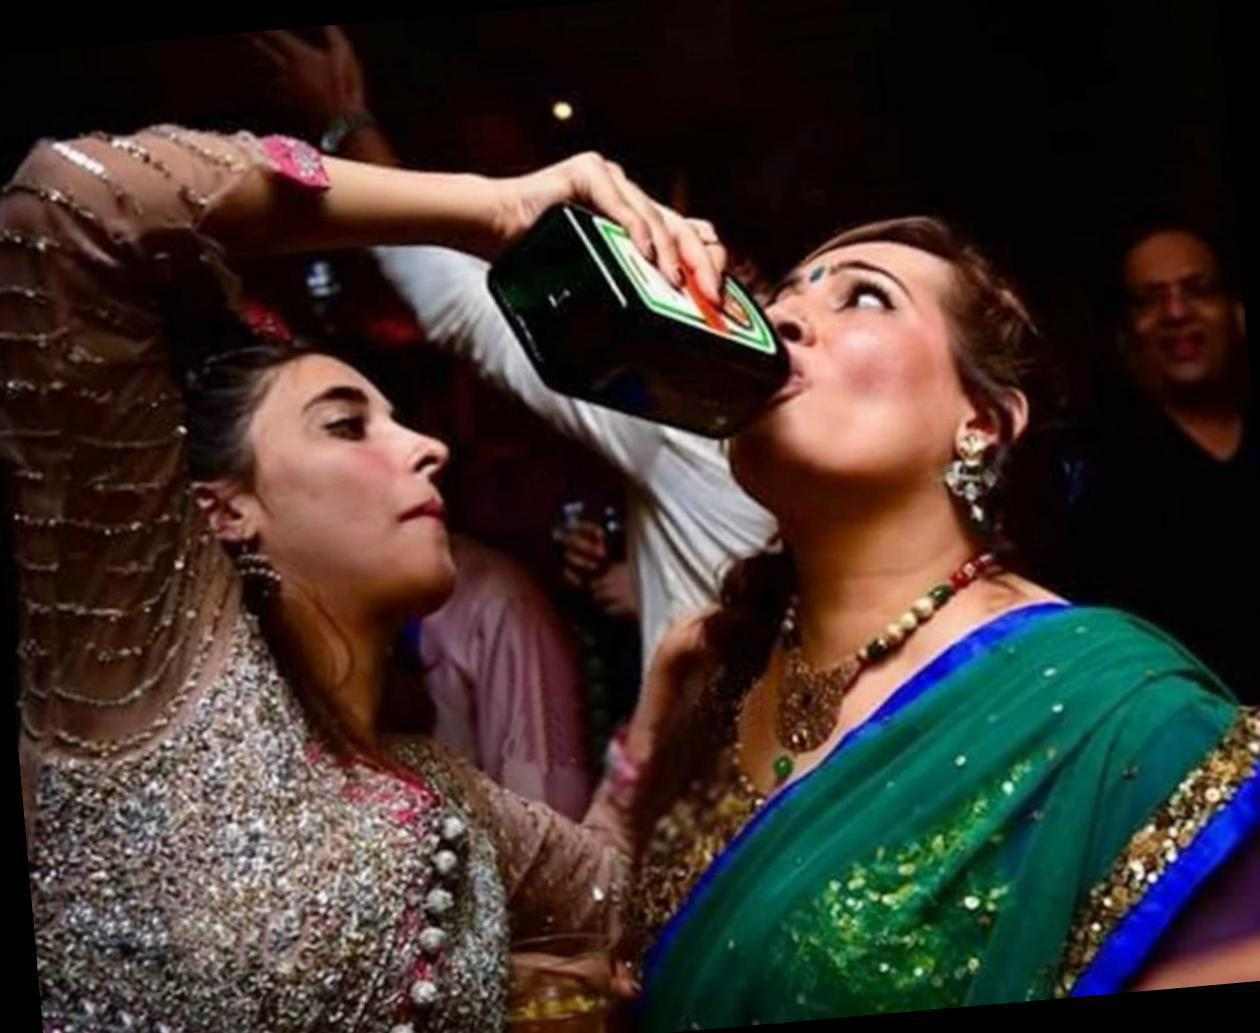Drunk: (256, 358, 459, 612), (743, 243, 938, 493)
